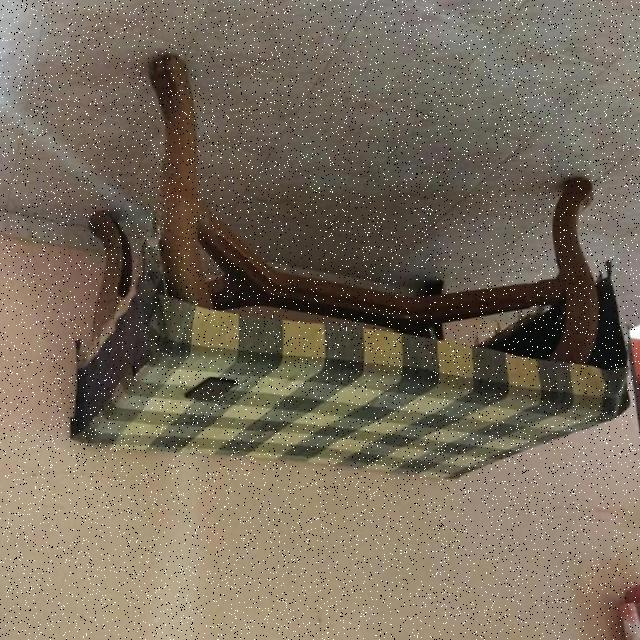mobile-phone: (56, 52, 640, 486)
